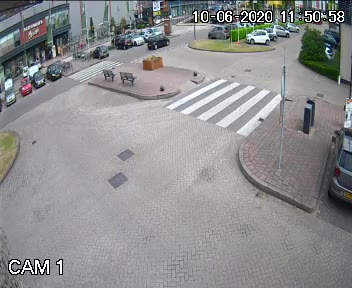car: (144, 32, 170, 53)
